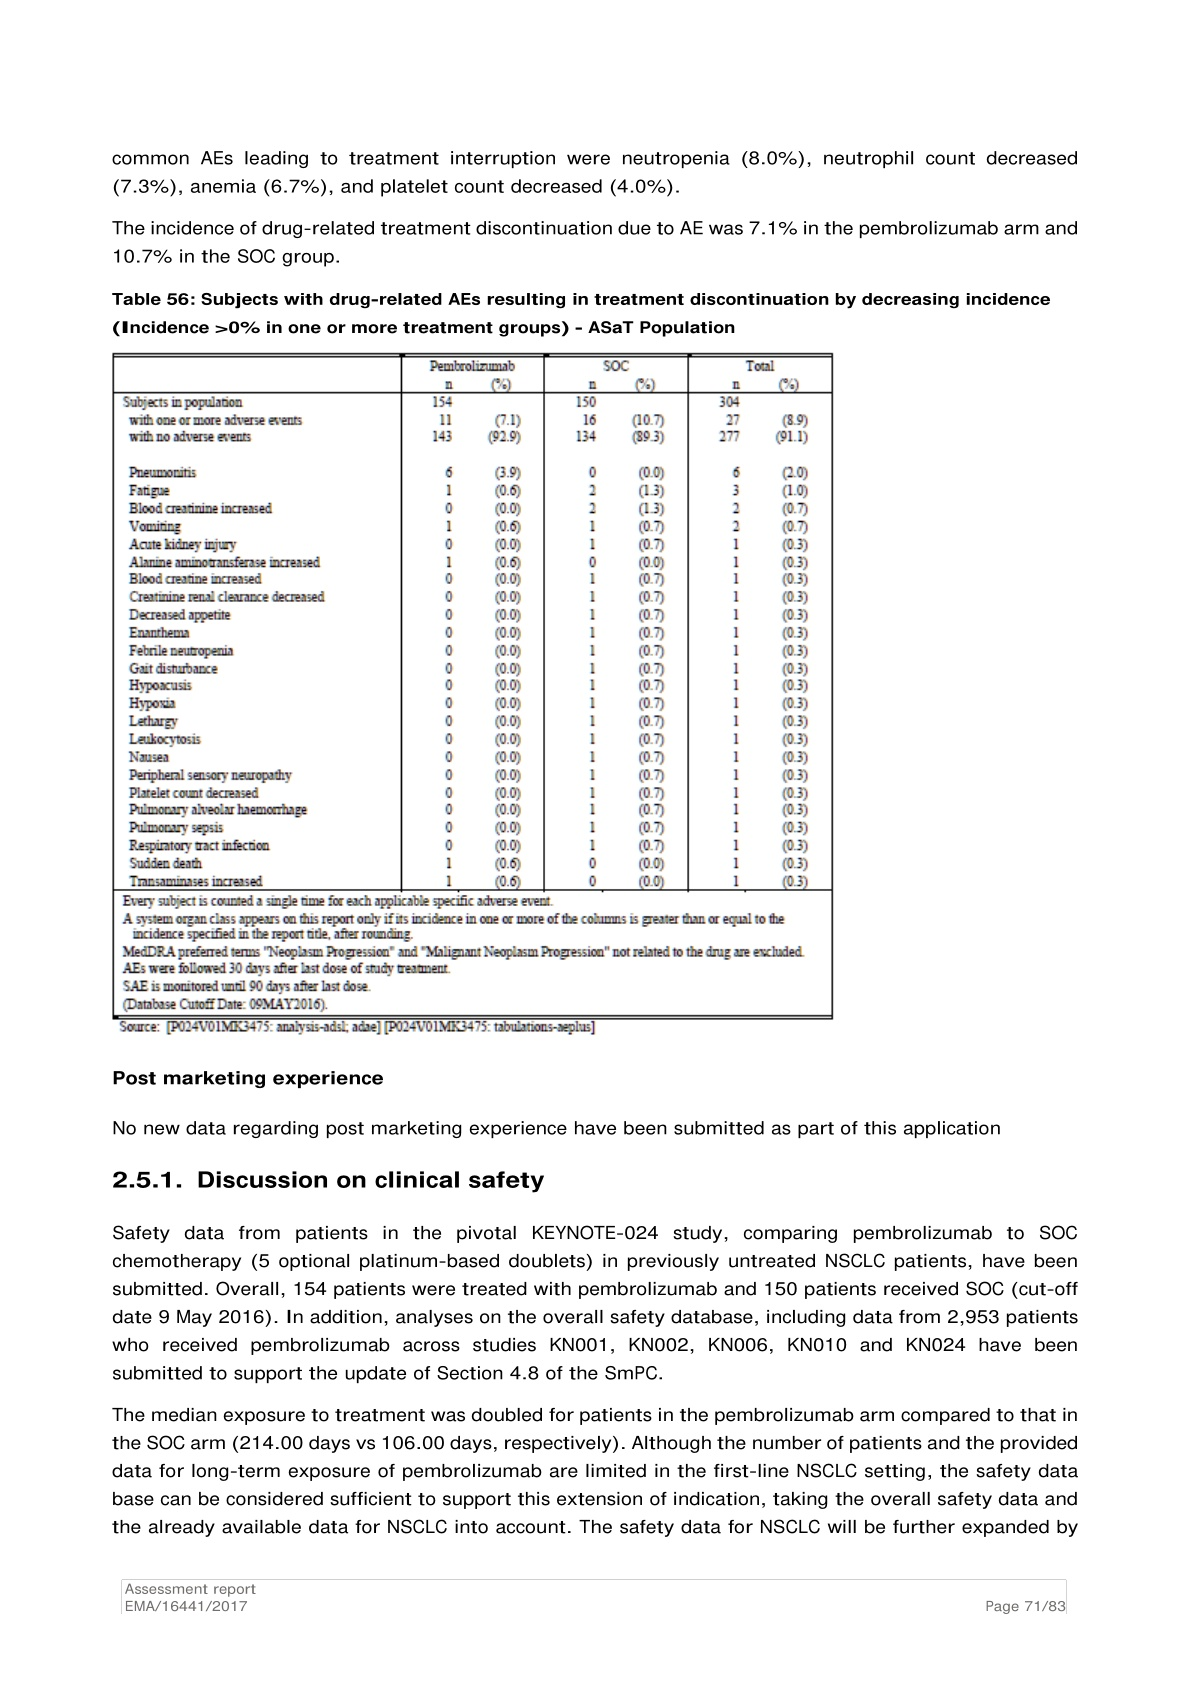merged_cells: (112, 352, 835, 1020)
